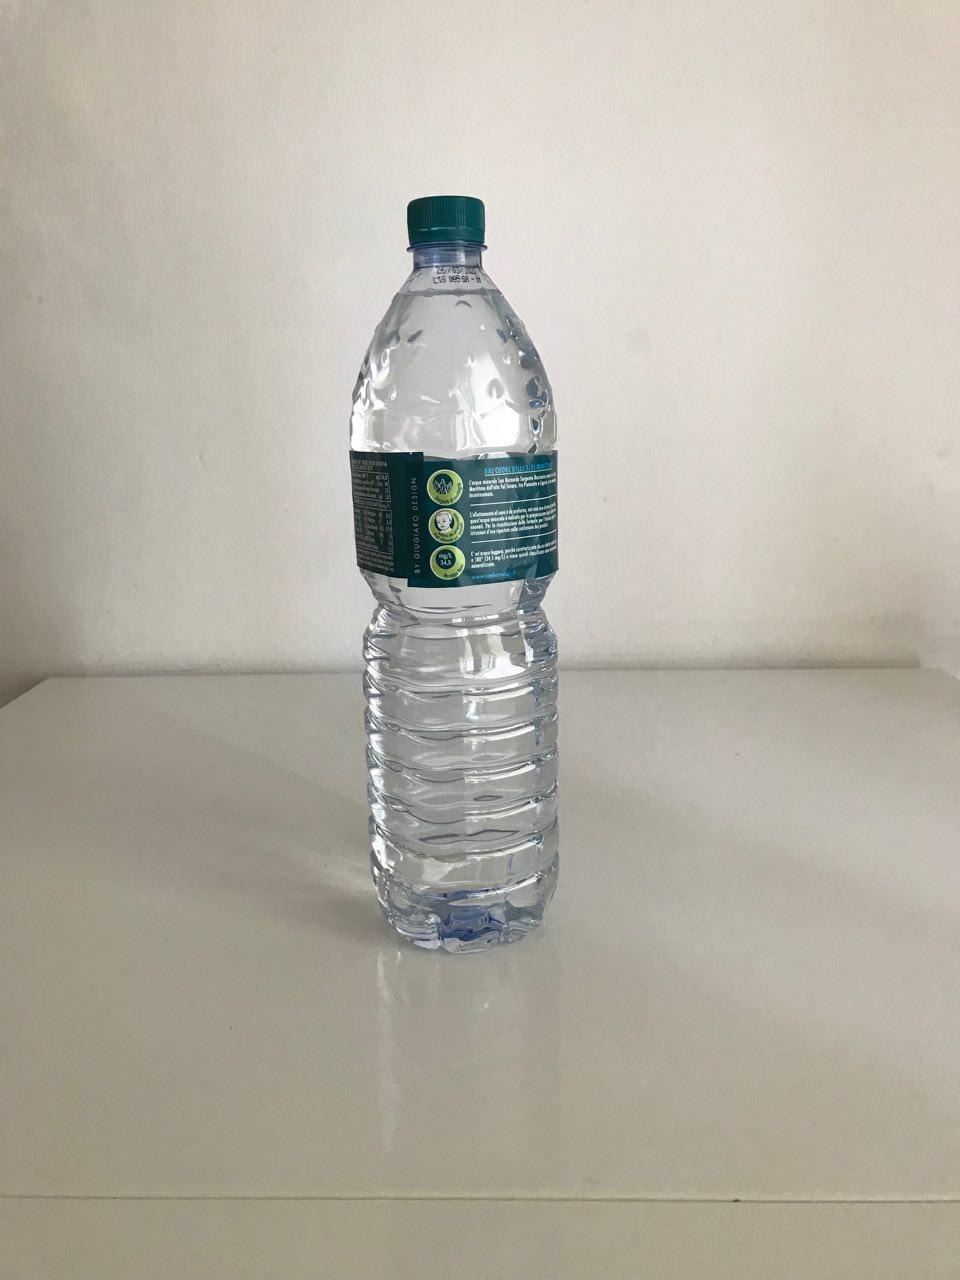san_bernardo: (345, 194, 562, 958)
